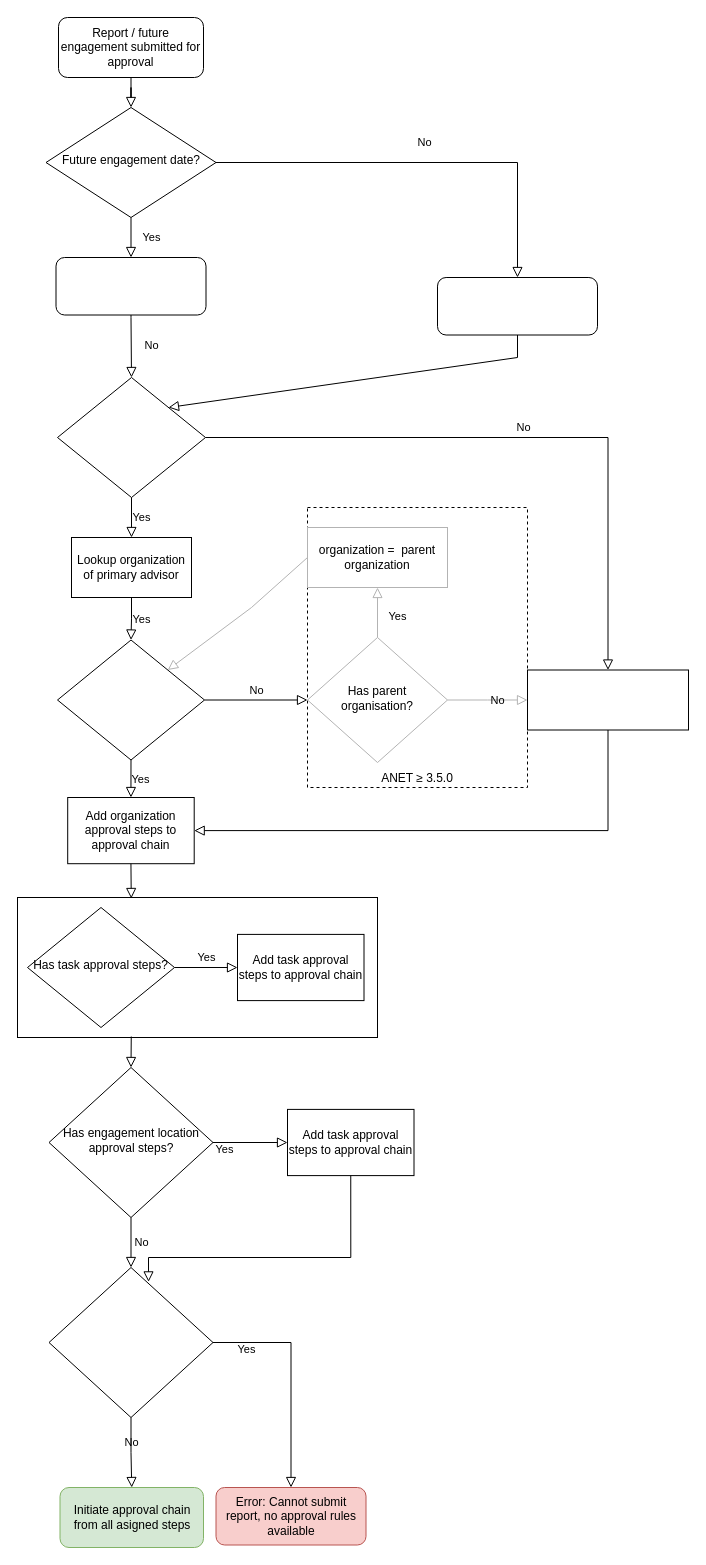
This 706x1565 diagram has some shape labels left out. Here are the shapes that lost their labels. From the top down, the box of each, then its label:
(55, 256, 206, 315): Use engagement planning approval process rules
(436, 276, 598, 335): Use report publication approval process rules
(56, 376, 206, 498): Has primary advisor?
(56, 639, 204, 760): Has organization approval steps?
(526, 669, 688, 730): organization = default approval organization
(16, 896, 378, 1038): For each assigned task
(48, 1266, 213, 1418): Is approval chain empty?
